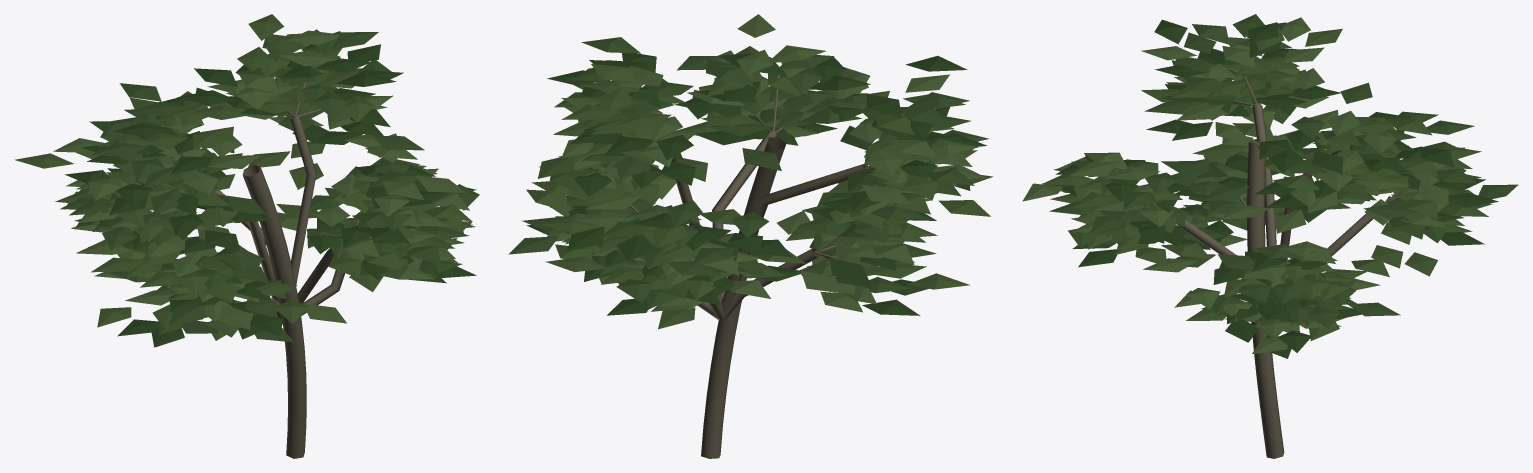
The model's file is prop_tropical_tree_b.glb.
3 views of the same model, side by side, from view 1: azimuth 30°, elevation 25°; view 2: azimuth 150°, elevation 25°; view 3: azimuth 270°, elevation 25° (orthographic). The views are drawn at different scales.
Visible parts, largest first — view 1: base__art06_canopy_prop_tropical_tree_b, base__art06_weathered_bark; view 2: base__art06_canopy_prop_tropical_tree_b, base__art06_weathered_bark; view 3: base__art06_canopy_prop_tropical_tree_b, base__art06_weathered_bark.
Part boxes in pixels (x1=…): base__art06_canopy_prop_tropical_tree_b: x1=14, y1=14, x2=479, y2=347; base__art06_weathered_bark: x1=134, y1=82, x2=379, y2=458; base__art06_canopy_prop_tropical_tree_b: x1=508, y1=14, x2=992, y2=329; base__art06_weathered_bark: x1=623, y1=74, x2=872, y2=458; base__art06_canopy_prop_tropical_tree_b: x1=1022, y1=14, x2=1518, y2=358; base__art06_weathered_bark: x1=1110, y1=76, x2=1403, y2=458.
Bounding box in the file's own units: 16.16 × 14.6 × 17.81.
